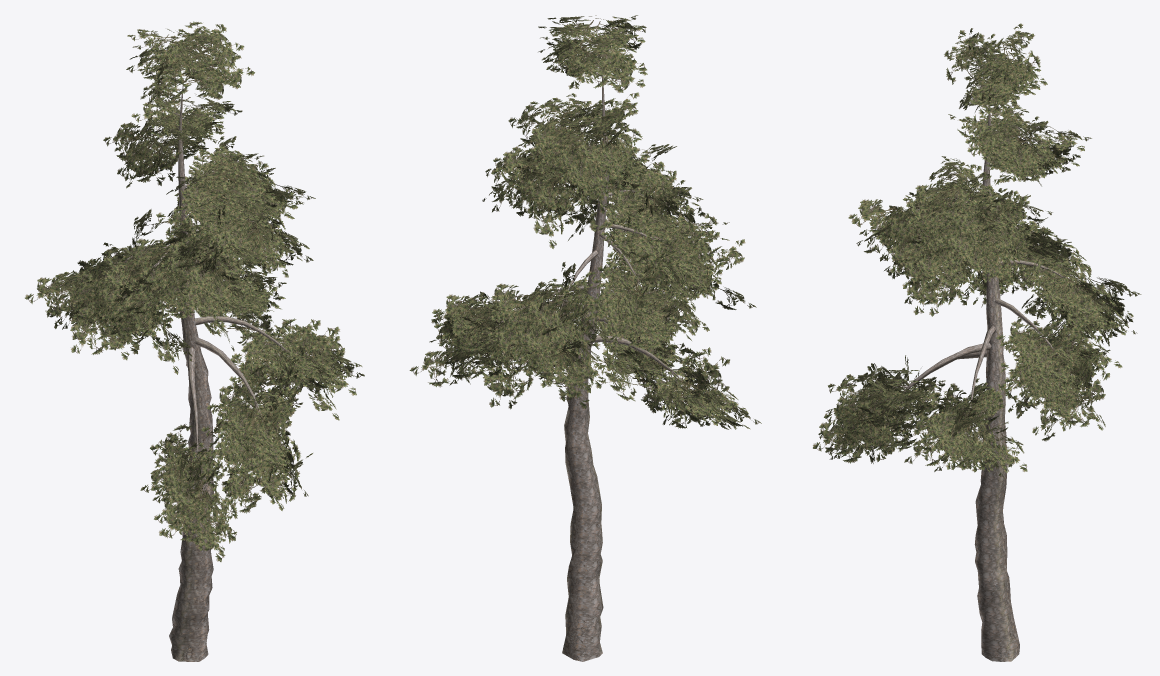
The model's file is pine-a.glb.
The picture shows the model from 3 angles, left to right: view 1: azimuth 30°, elevation 25°; view 2: azimuth 150°, elevation 25°; view 3: azimuth 270°, elevation 25°; orthographic projection. The views are drawn at different scales.
Visible parts, largest first — view 1: pine-a; view 2: pine-a; view 3: pine-a.
Boxes of the visible parts, box(x1,y1,x2,y2) form: pine-a: box(25, 21, 364, 661); pine-a: box(409, 15, 761, 661); pine-a: box(813, 23, 1141, 661).
Bounding box in the file's own units: 11.32 × 22 × 11.26.
2 materials, 2 textured.
